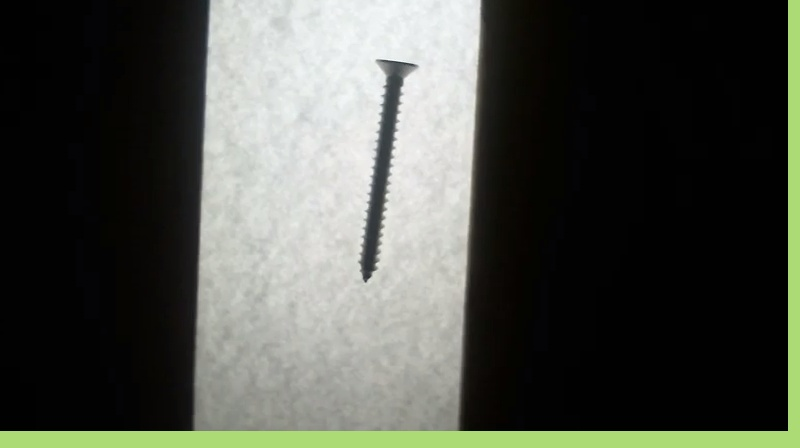S002: (355, 54, 420, 285)
